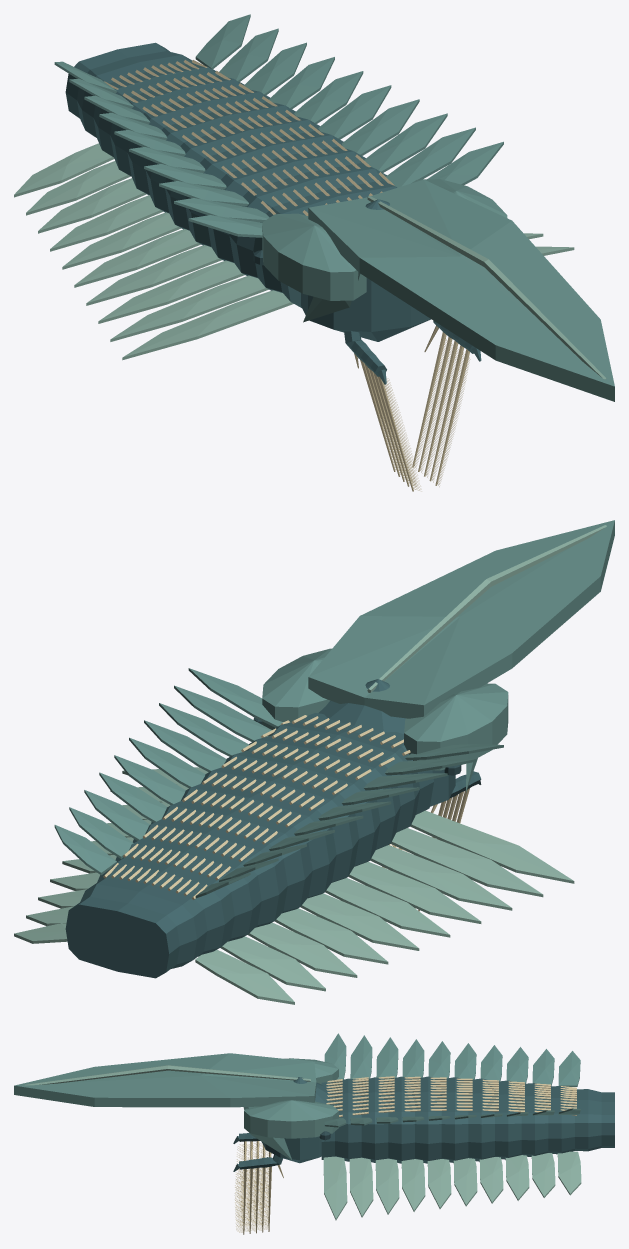
The model's file is aegirocassis.glb.
The picture shows the model from 3 angles, top to bottom: view 1: azimuth 30°, elevation 25°; view 2: azimuth 150°, elevation 25°; view 3: azimuth 270°, elevation 25°; orthographic projection. The views are drawn at different scales.
Parts seen in each view (by area): view 1: aegirocassis-double-flaps-filter-baskets; view 2: aegirocassis-double-flaps-filter-baskets; view 3: aegirocassis-double-flaps-filter-baskets.
Boxes of the visible parts, x1,y1,x2,y2 form: aegirocassis-double-flaps-filter-baskets: [14, 14, 614, 491]; aegirocassis-double-flaps-filter-baskets: [14, 520, 614, 1004]; aegirocassis-double-flaps-filter-baskets: [14, 1033, 614, 1234].
Bounding box in the file's own units: 0.86 × 0.5003 × 1.64.
